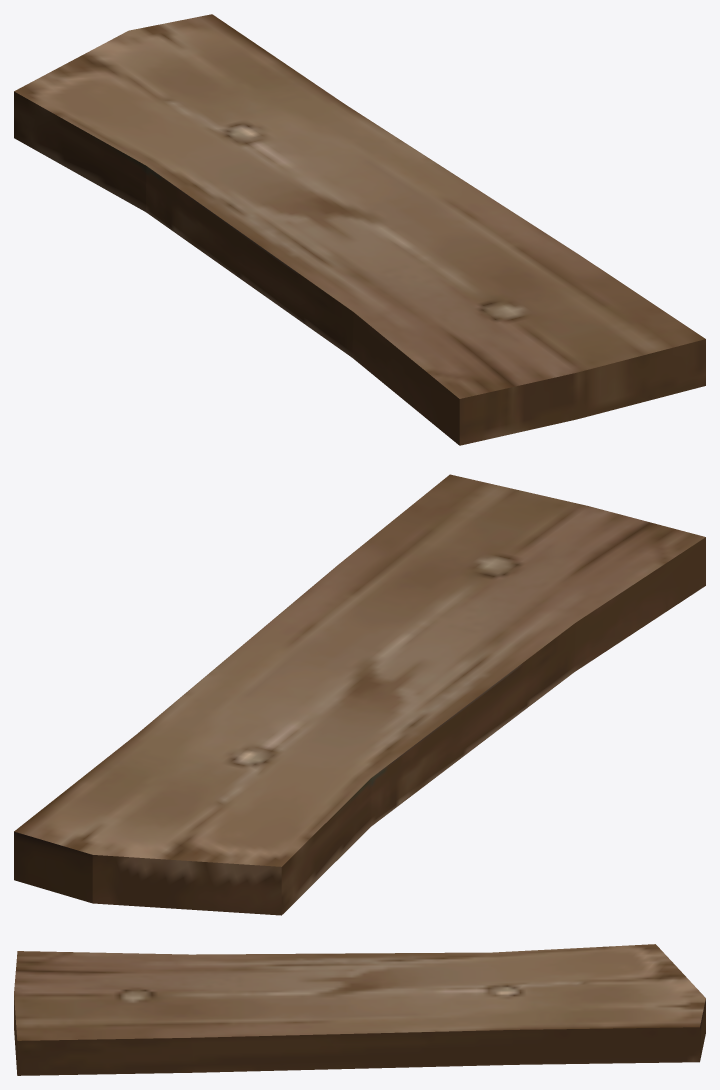
File: FB5_mubankuai02.FBX
3 views of the same model, one above another, from view 1: azimuth 30°, elevation 25°; view 2: azimuth 150°, elevation 25°; view 3: azimuth 270°, elevation 25° (orthographic). The views are drawn at different scales.
Parts seen in each view (by area): view 1: FB5_mubankuai02; view 2: FB5_mubankuai02; view 3: FB5_mubankuai02.
Boxes of the visible parts, x1=… form: FB5_mubankuai02: x1=14, y1=14, x2=705, y2=445; FB5_mubankuai02: x1=14, y1=474, x2=705, y2=915; FB5_mubankuai02: x1=14, y1=944, x2=705, y2=1075.
Bounding box in the file's own units: 607 × 102 × 1835.
Materials: 1 (1 with a texture image).
